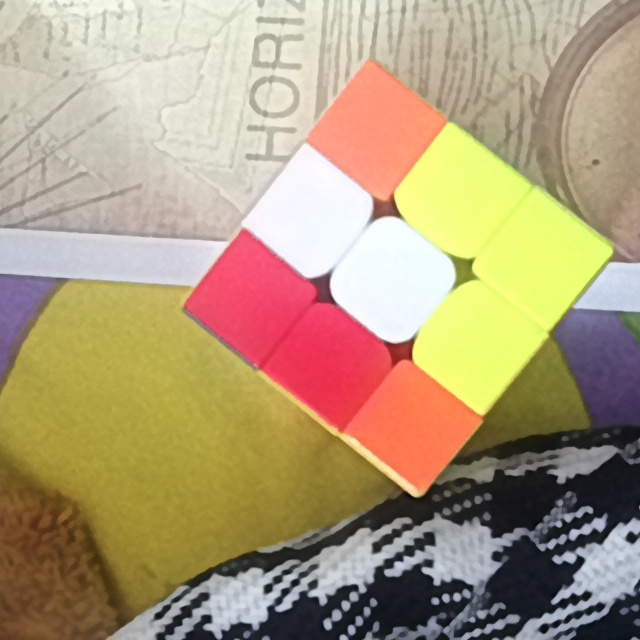tile: (294, 327, 367, 399), (333, 101, 409, 170), (423, 160, 495, 232), (376, 395, 451, 462), (439, 311, 513, 378), (363, 241, 429, 314), (509, 226, 576, 296), (277, 183, 346, 246), (221, 268, 283, 332)
